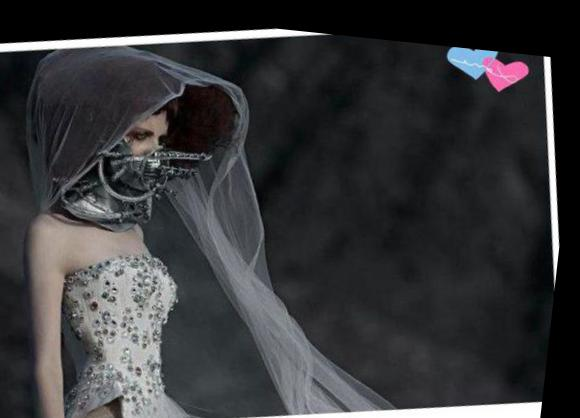WRONG: (111, 113, 185, 198)
